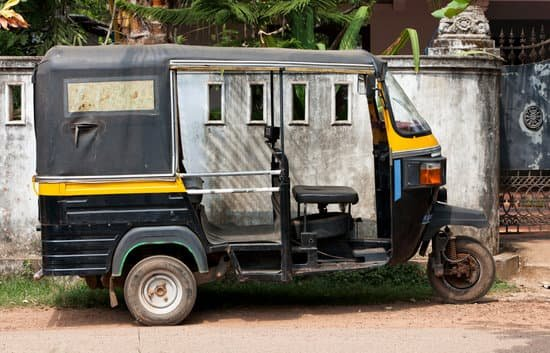threewheel: (32, 45, 496, 326)
